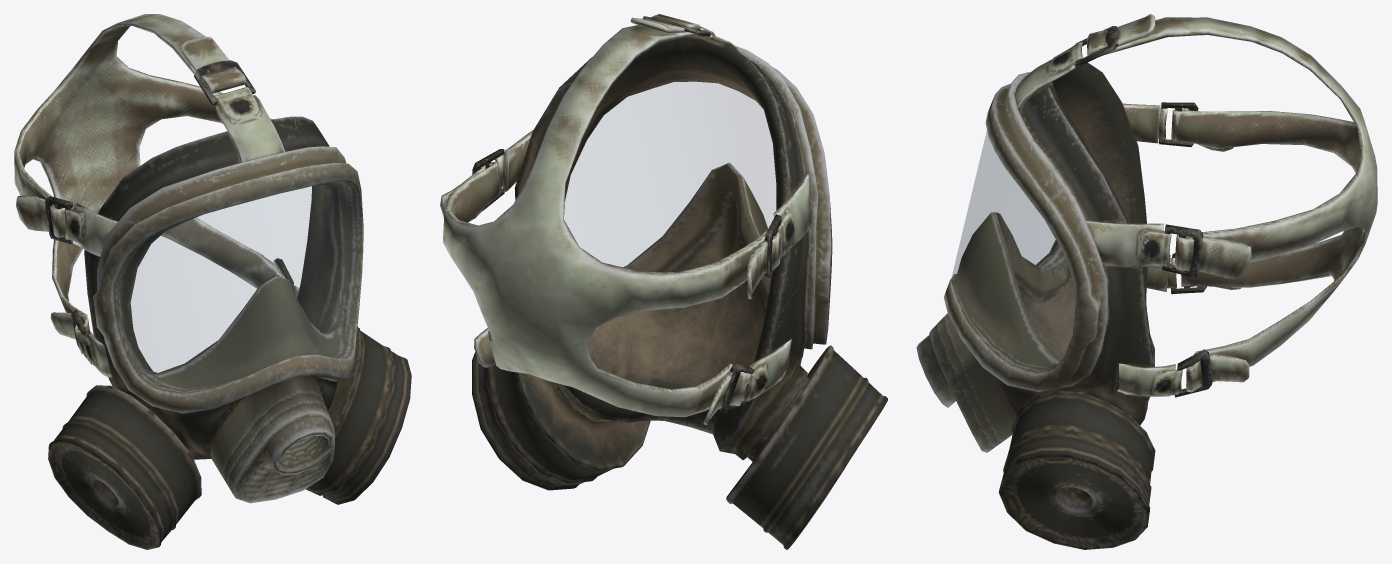
The model's file is mascara.FBX.
3 views of the same model, side by side, from view 1: azimuth 30°, elevation 25°; view 2: azimuth 150°, elevation 25°; view 3: azimuth 270°, elevation 25° (orthographic). The views are drawn at different scales.
Parts seen in each view (by area): view 1: Masks, Visor Mascara; view 2: Masks, Visor Mascara; view 3: Masks, Visor Mascara.
Boxes of the visible parts, x1,y1,x2,y2 form: Masks: (14, 14, 411, 549); Visor Mascara: (114, 181, 360, 393); Masks: (440, 14, 887, 549); Visor Mascara: (564, 82, 775, 266); Masks: (916, 14, 1377, 549); Visor Mascara: (951, 132, 1074, 372).
Bounding box in the file's own units: 0.2234 × 0.2889 × 0.2508.
Materials: 2 (1 with a texture image).
